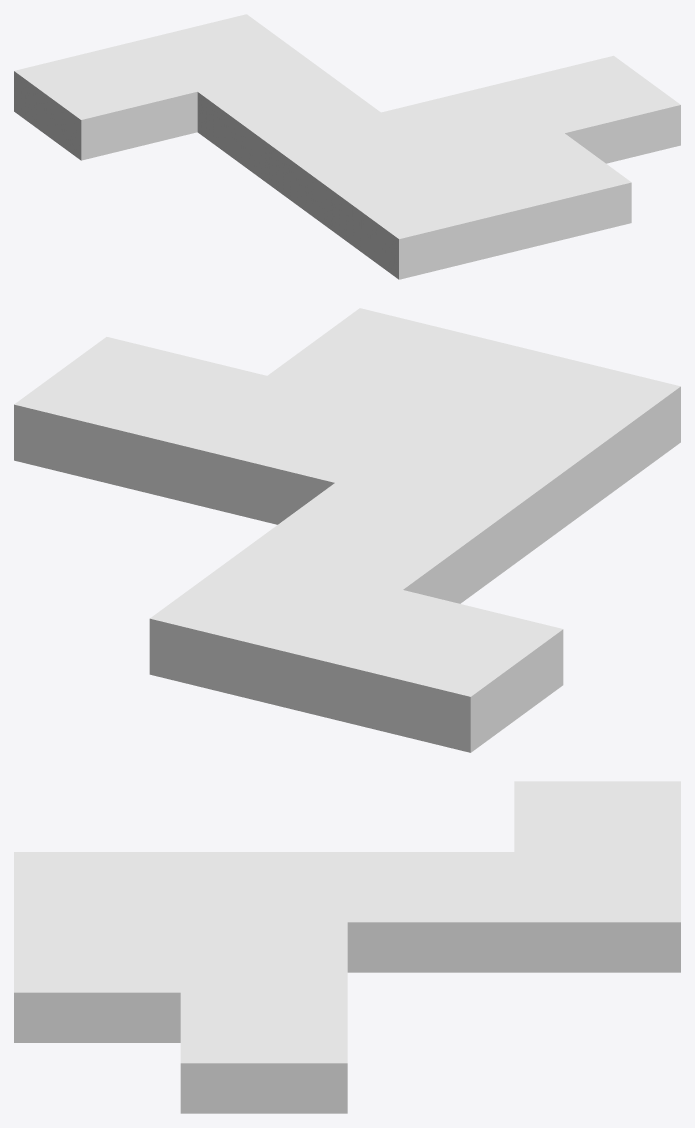
The model's file is cloud4.gltf.
3 renders of one model, top to bottom at view 1: azimuth 30°, elevation 25°; view 2: azimuth 150°, elevation 25°; view 3: azimuth 270°, elevation 25°, orthographic. The views are drawn at different scales.
Parts seen in each view (by area): view 1: cloud4; view 2: cloud4; view 3: cloud4.
Boxes of the visible parts, box(x1,y1,x2,y2) form: cloud4: box(14, 14, 680, 279); cloud4: box(14, 308, 680, 752); cloud4: box(14, 781, 680, 1113).
Bounding box in the file's own units: 48 × 4 × 48.
1 material, 1 textured.
